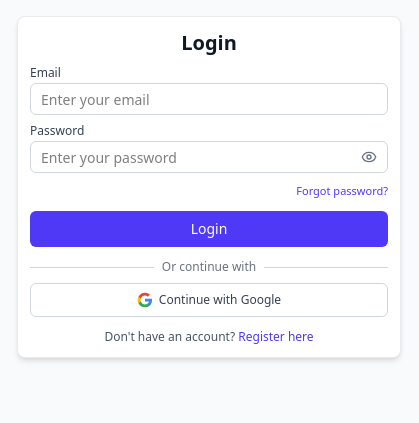
Test case: Login Component › Form Submission - Error Cases › should display error message when API returns error with JSON response
Type "test@example.com" into the field labelled "Email" at [209, 99], box top-left (30, 83), bottom-right (388, 115)
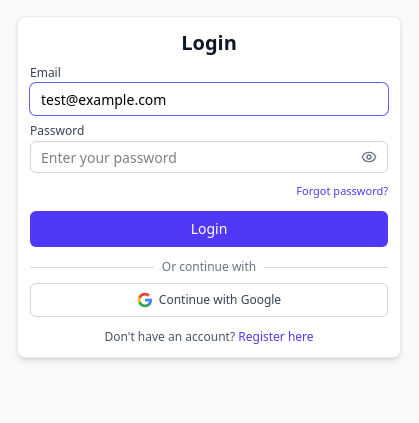
Type "wrongpassword" into the password field labelled "Password" at [209, 157], box top-left (30, 141), bottom-right (388, 173)
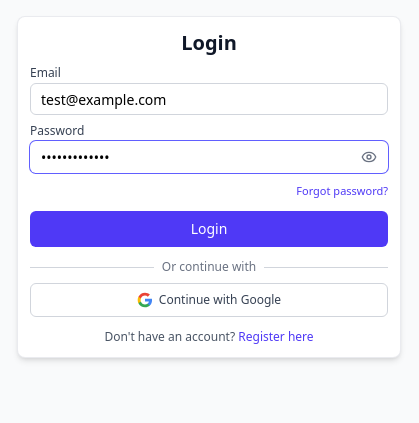
Click the button "Login" at [209, 229], box top-left (30, 211), bottom-right (388, 247)
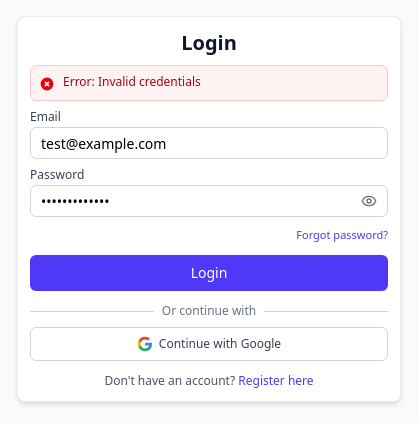
expect the text "Error: Invalid credentials" is shown: met, box top-left (63, 74), bottom-right (201, 90)
